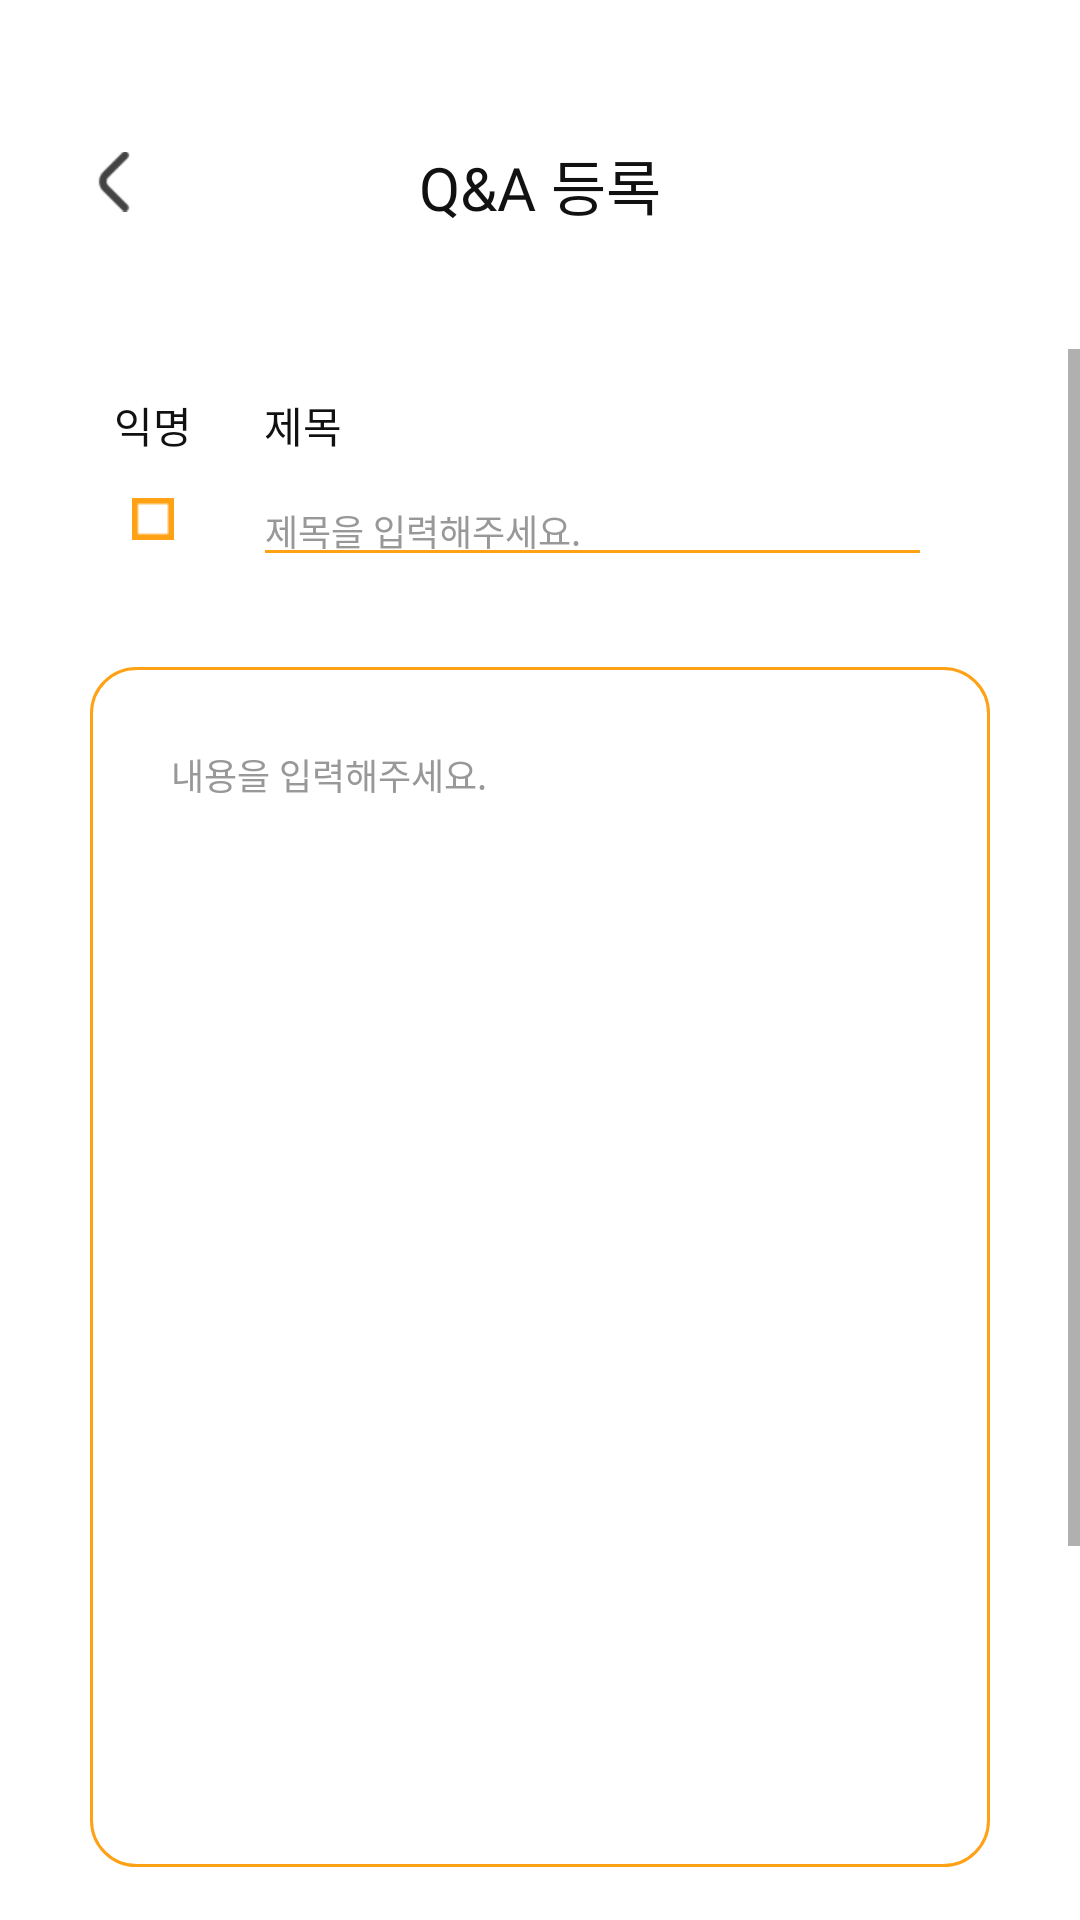

Named icons in this screenshot (1080 × 1920) and their centers, [x,y]:
back: [114,182]
